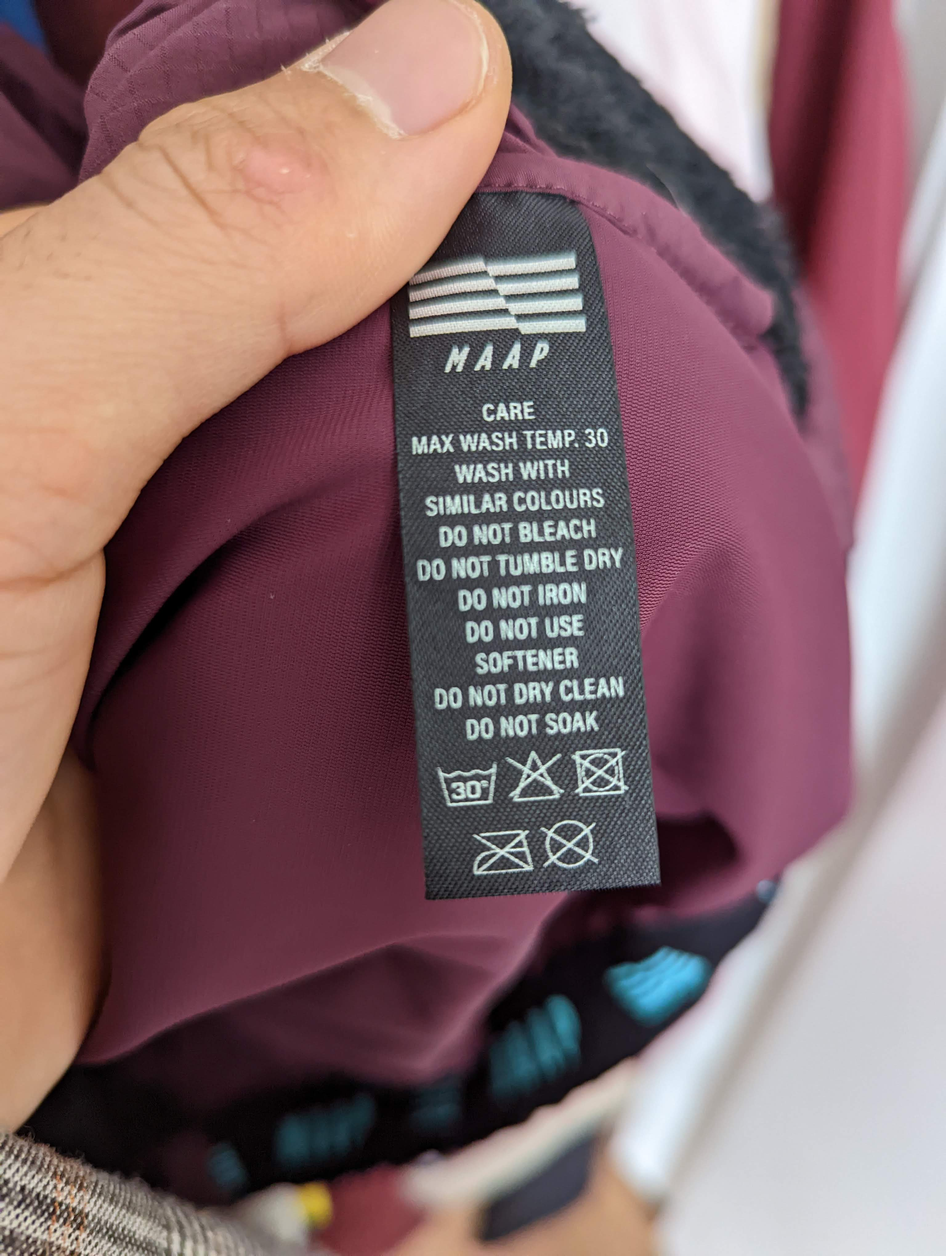ER_no_bleach: (502, 746, 568, 809)
ER_no_dry_clean: (538, 816, 603, 875)
ER_no_iron: (468, 826, 538, 879)
ER_no_tumble_dry: (569, 744, 632, 801)
ER_wash_30: (432, 757, 504, 812)
